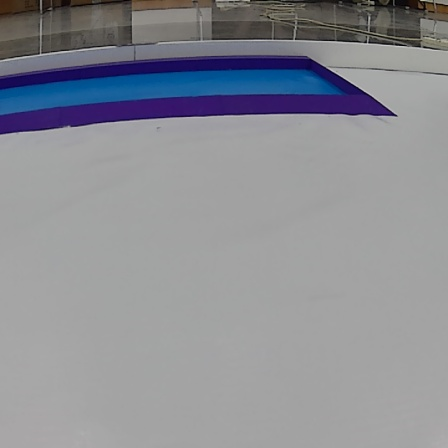blue_aim: (3, 50, 399, 136)
